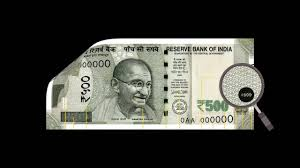fiveHundred: (68, 55, 235, 115)
